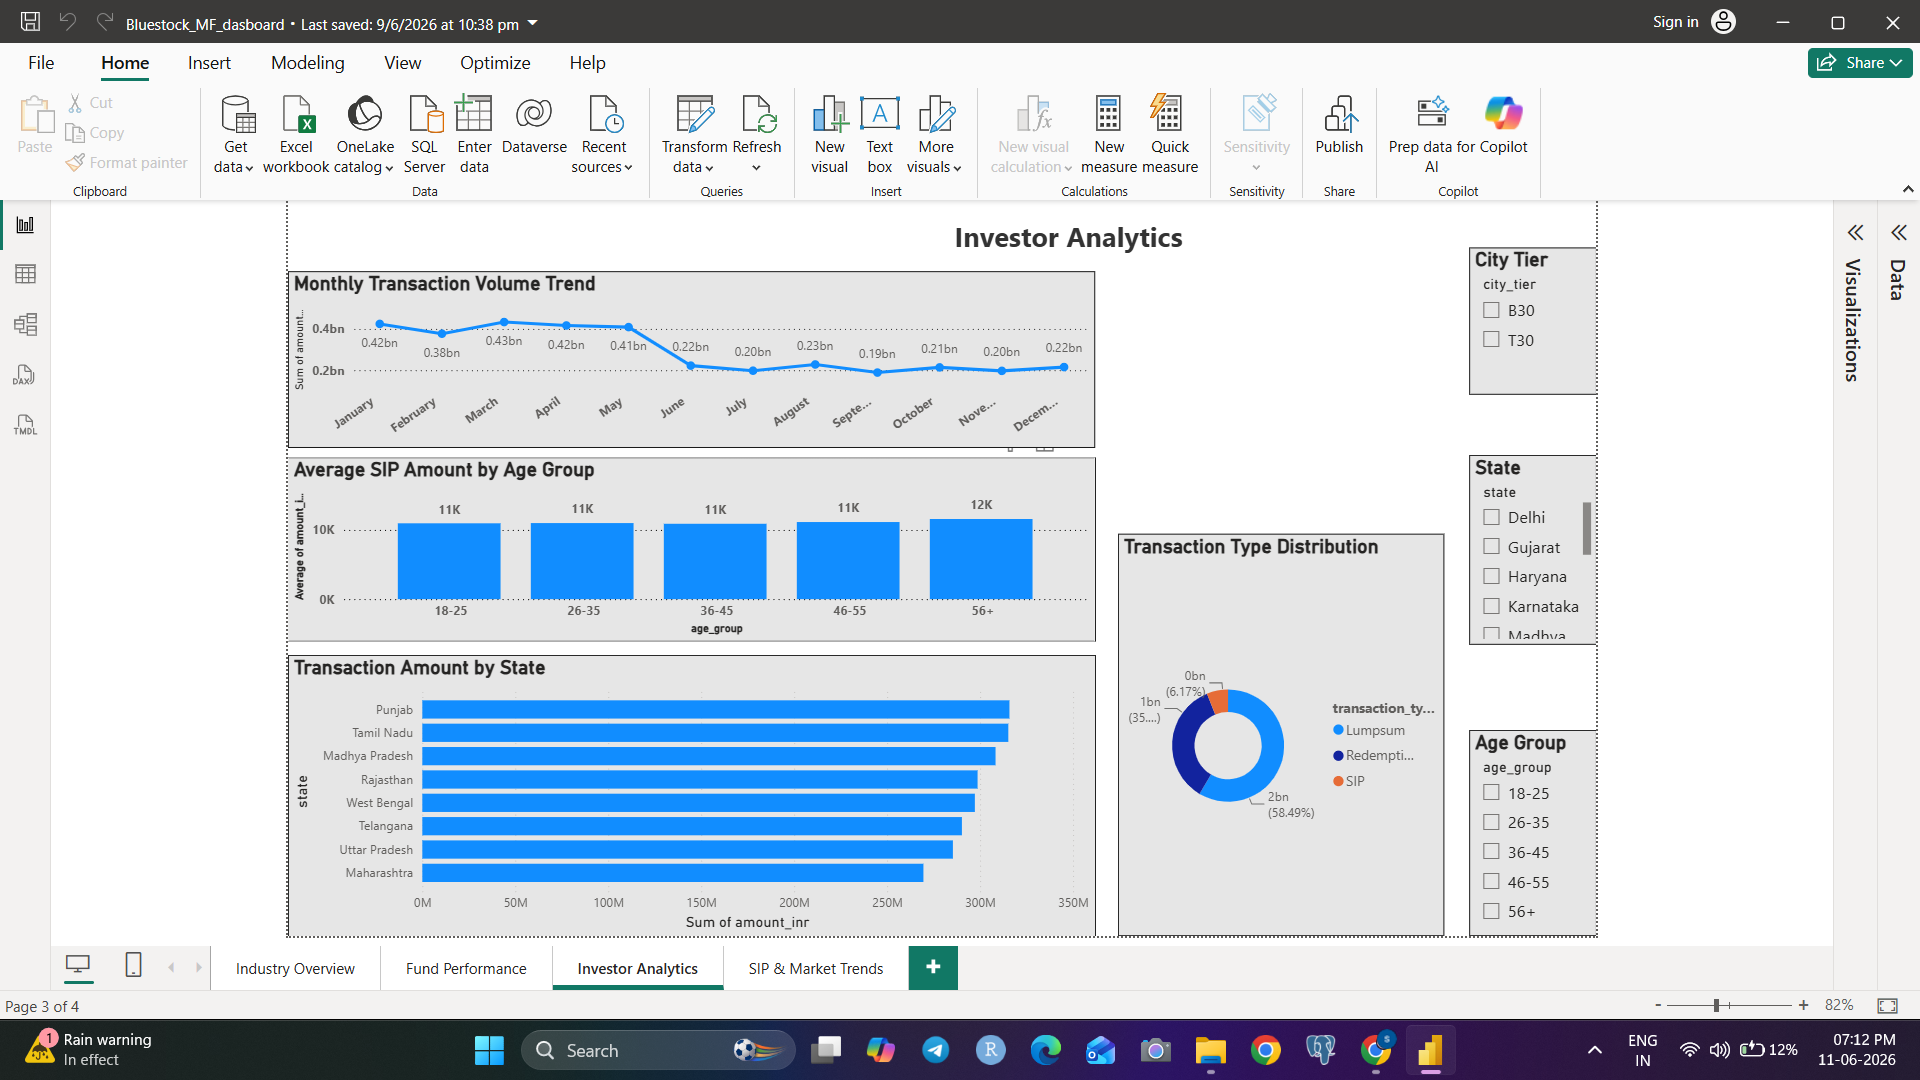

The page's visual inventory and layout, read from the dashboard file:
{"tool":"powerbi","page":{"name":"Investor Analytics","canvas":[1280,720],"ordinal":2},"visuals":[{"type":"clusteredBarChart","title":"Transaction Amount by State","fields":{"Category":["08_investor_transactions.state"],"Y":["Sum(08_investor_transactions.amount_inr)"]},"box":[0,444.6,790.4,275.8],"z":0},{"type":"donutChart","title":"Transaction Type Distribution","fields":{"Category":["08_investor_transactions.transaction_type"],"Y":["Sum(08_investor_transactions.amount_inr)"]},"box":[812,326.5,319.2,393.8],"z":1000},{"type":"clusteredColumnChart","title":"Average SIP Amount by Age Group","fields":{"Category":["08_investor_transactions.age_group"],"Y":["Avg(08_investor_transactions.amount_inr)"]},"box":[0,252.5,790.4,179.8],"z":2000},{"type":"lineChart","title":"Monthly Transaction Volume Trend","fields":{"Category":["investor_transactions.transaction_date.Variation.Date Hierarchy.Month"],"Y":["Sum(investor_transactions.amount_inr)"]},"box":[0,69.7,789.9,172.4],"z":3000},{"type":"slicer","title":"State","fields":{"Values":["investor_transactions.state"]},"box":[1155.6,249.5,124.7,185.9],"z":4000},{"type":"slicer","title":"Age Group","fields":{"Values":["investor_transactions.age_group"]},"box":[1155.6,518.5,124.7,201.8],"z":5000},{"type":"slicer","title":"City Tier","fields":{"Values":["investor_transactions.city_tier"]},"box":[1155.6,46.5,124.7,144.3],"z":6000},{"type":"textbox","box":[459.8,12.2,607.7,45.2],"z":7000}]}

Visuals, with their boxes on the page's 1280x720 design canvas (x1, y1, x2, y2). These are canvas units, not pixel positions in the 1920x1080 screenshot, which may show the page scaled, cropped or inside an application window:
"Transaction Amount by State" clusteredBarChart: [0, 445, 790, 720]
"Transaction Type Distribution" donutChart: [812, 326, 1131, 720]
"Average SIP Amount by Age Group" clusteredColumnChart: [0, 252, 790, 432]
"Monthly Transaction Volume Trend" lineChart: [0, 70, 790, 242]
"State" slicer: [1156, 250, 1280, 435]
"Age Group" slicer: [1156, 518, 1280, 720]
"City Tier" slicer: [1156, 46, 1280, 191]
textbox: [460, 12, 1068, 57]
